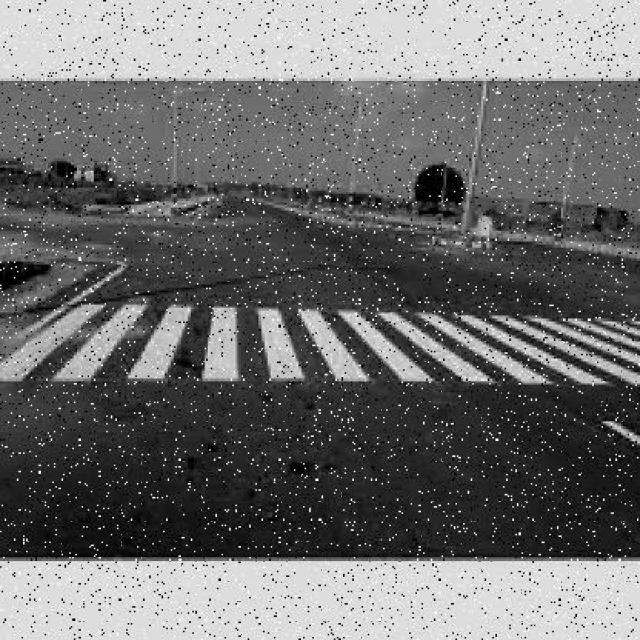intact_crosswalk: (0, 300, 640, 385)
